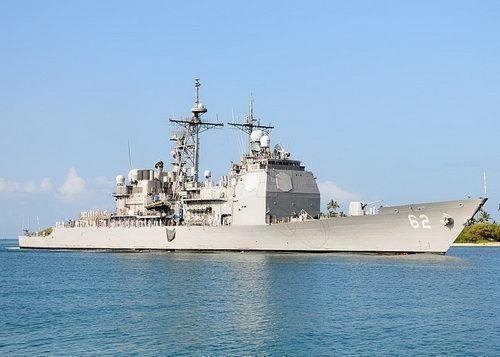warship: (14, 78, 495, 256)
